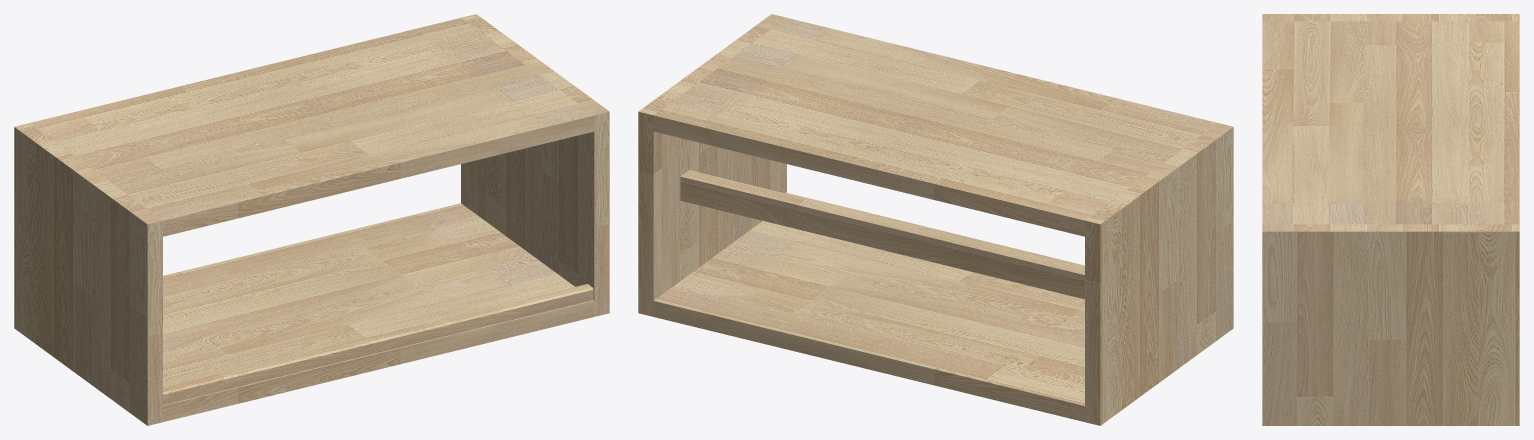
The picture shows the model from 3 angles, left to right: view 1: azimuth 30°, elevation 25°; view 2: azimuth 150°, elevation 25°; view 3: azimuth 270°, elevation 25°; orthographic projection. The views are drawn at different scales.
Parts seen in each view (by area): view 1: Korpus side.013; view 2: Korpus side.013; view 3: Korpus side.013.
Boxes of the visible parts, x1,y1,x2,y2 form: Korpus side.013: (14, 14, 609, 425); Korpus side.013: (638, 14, 1233, 425); Korpus side.013: (1262, 14, 1519, 425).
Bounding box in the file's own units: 0.6 × 0.25 × 0.3.
Materials: 1 (1 with a texture image).
